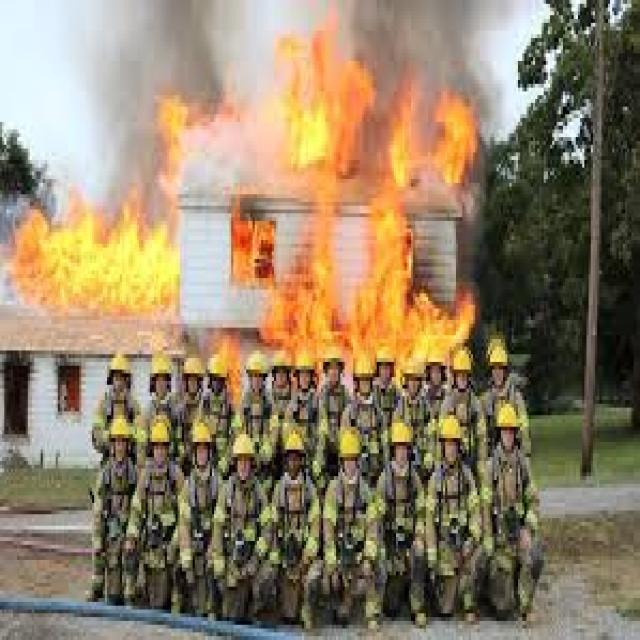Fire: (12, 194, 178, 308), (270, 15, 376, 176), (262, 286, 473, 359), (396, 78, 479, 198), (304, 190, 412, 278), (227, 206, 280, 288), (152, 90, 194, 186), (203, 328, 243, 401)
Smoke: (89, 0, 208, 74), (381, 3, 471, 67)
